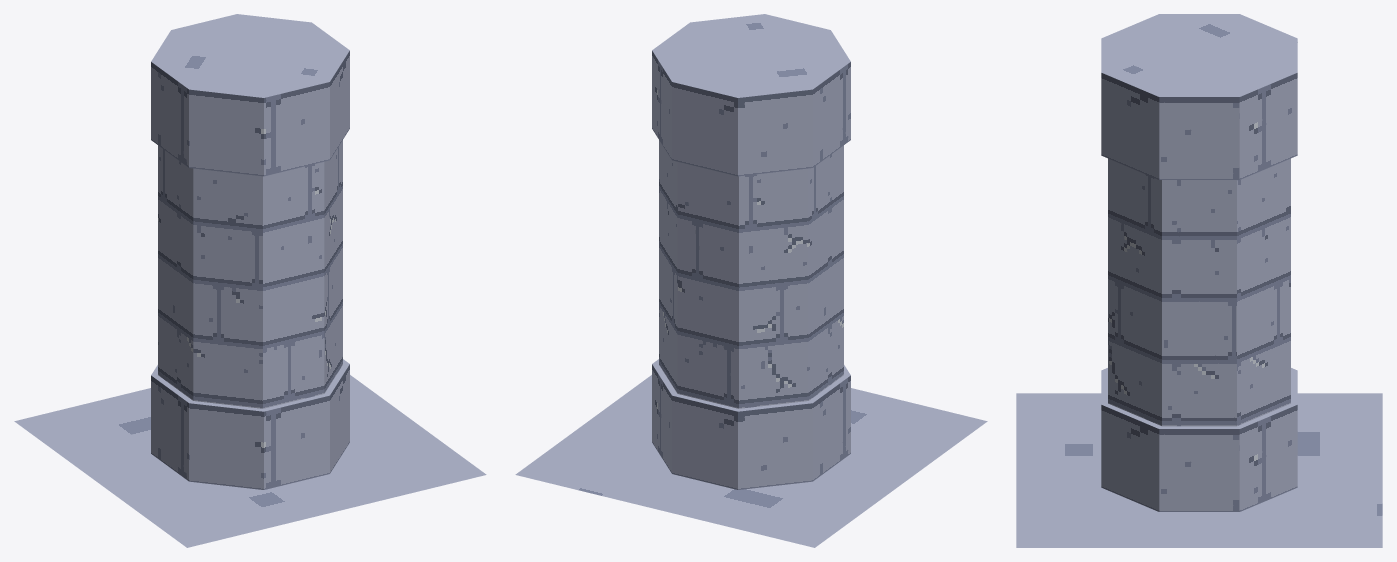
Rendered from Pillar.fbx.
3 renders of one model, left to right at view 1: azimuth 30°, elevation 25°; view 2: azimuth 150°, elevation 25°; view 3: azimuth 270°, elevation 25°, orthographic. The views are drawn at different scales.
Visible parts, largest first — view 1: Pillar; view 2: Pillar; view 3: Pillar.
Part boxes in pixels (left/top/right/bottom): Pillar: left=14, top=14, right=486, bottom=547; Pillar: left=515, top=14, right=987, bottom=547; Pillar: left=1016, top=14, right=1382, bottom=547.
Bounding box in the file's own units: 200 × 250 × 200.
